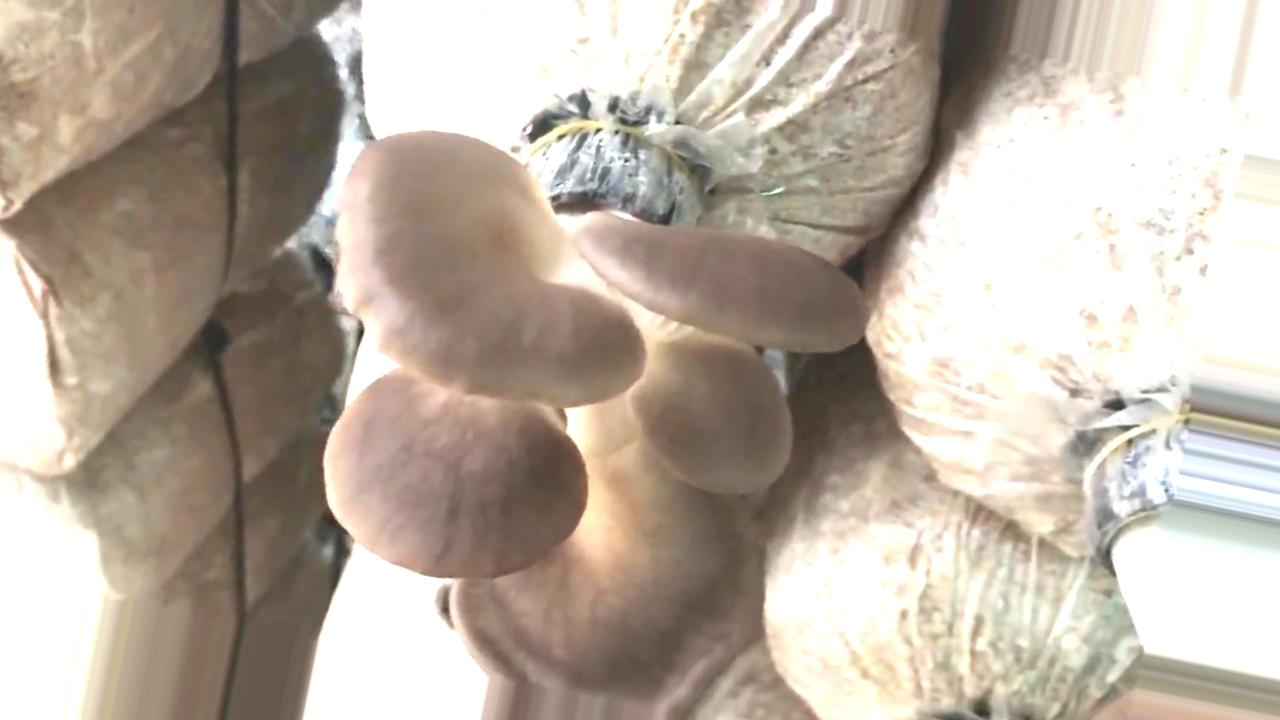nam: (328, 123, 869, 720)
